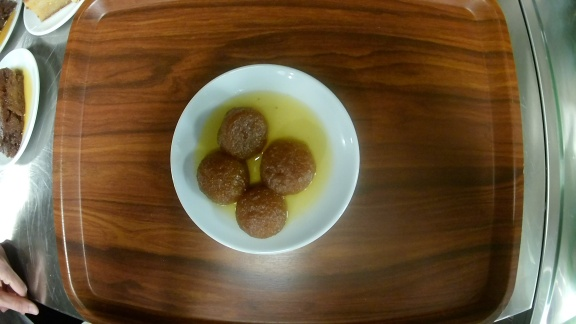kemalpasa: (169, 64, 360, 253)
